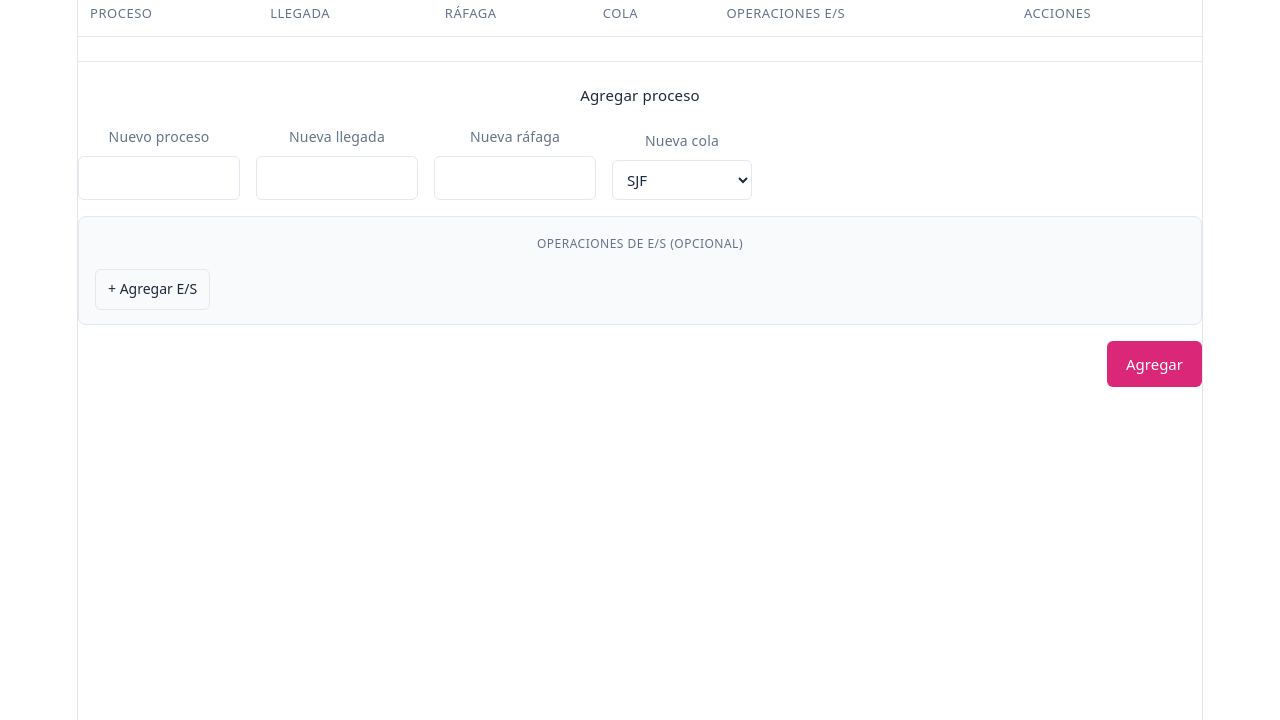
Test: ProcessTable › accepts arrivalTime = 0 and rejects negative with a validation error [4.4]
In the field labelled "Nuevo proceso": x=159, y=178 [78,156,240,200], type "P1"
In the field labelled "Nueva llegada": x=337, y=178 [256,156,418,200], type "0"
In the field labelled "Nueva ráfaga": x=515, y=178 [434,156,596,200], type "5"
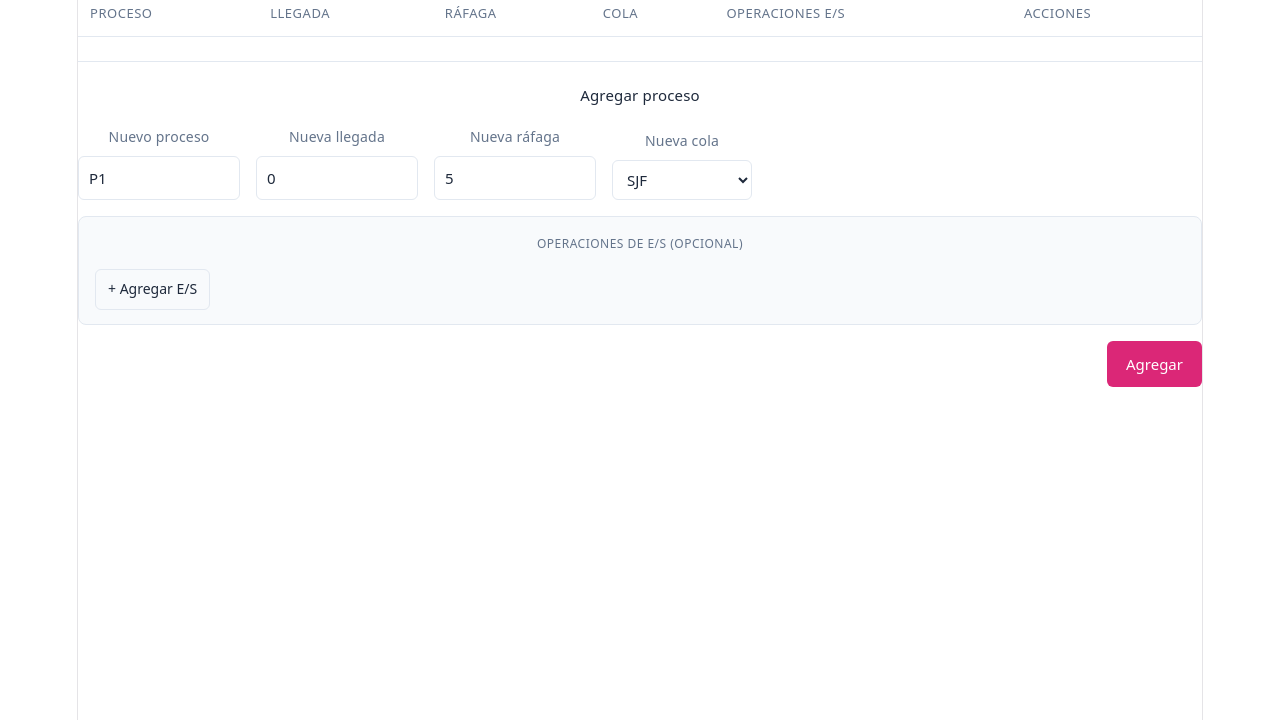
Click the button "Agregar": x=1154, y=364 [1107,341,1202,387]
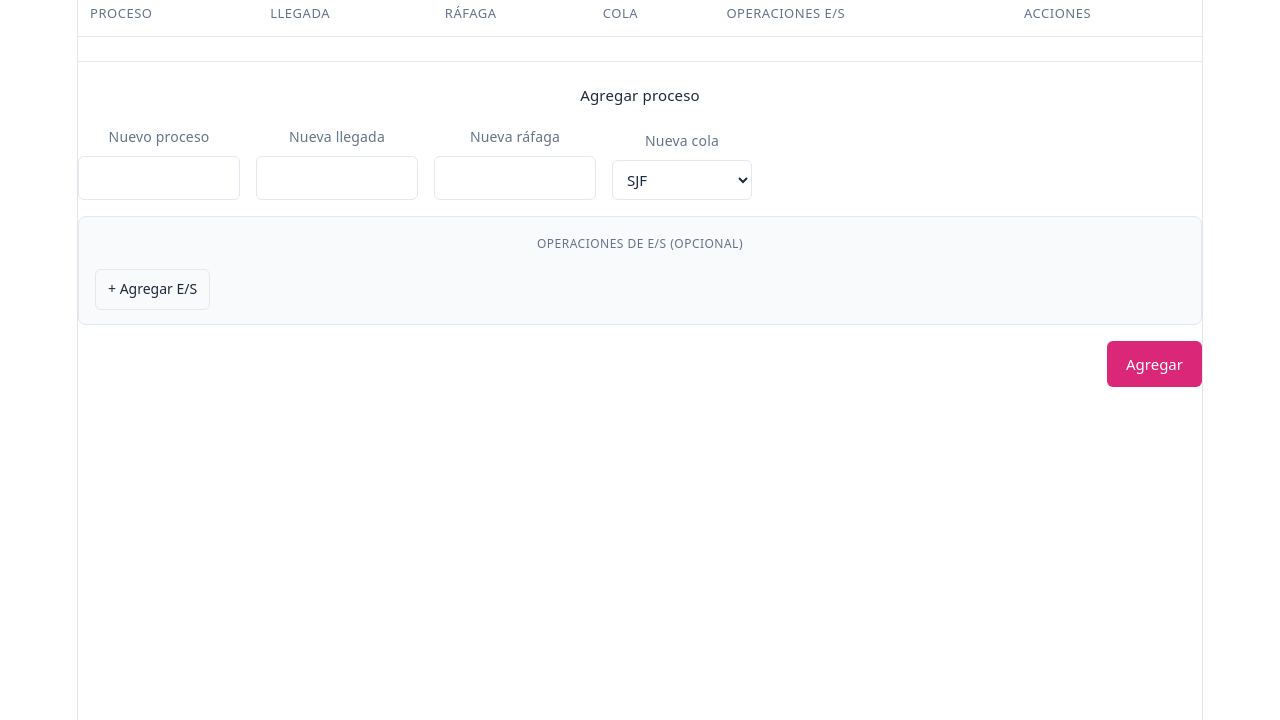
In the field labelled "Nuevo proceso": x=159, y=178 [78,156,240,200], type "P2"
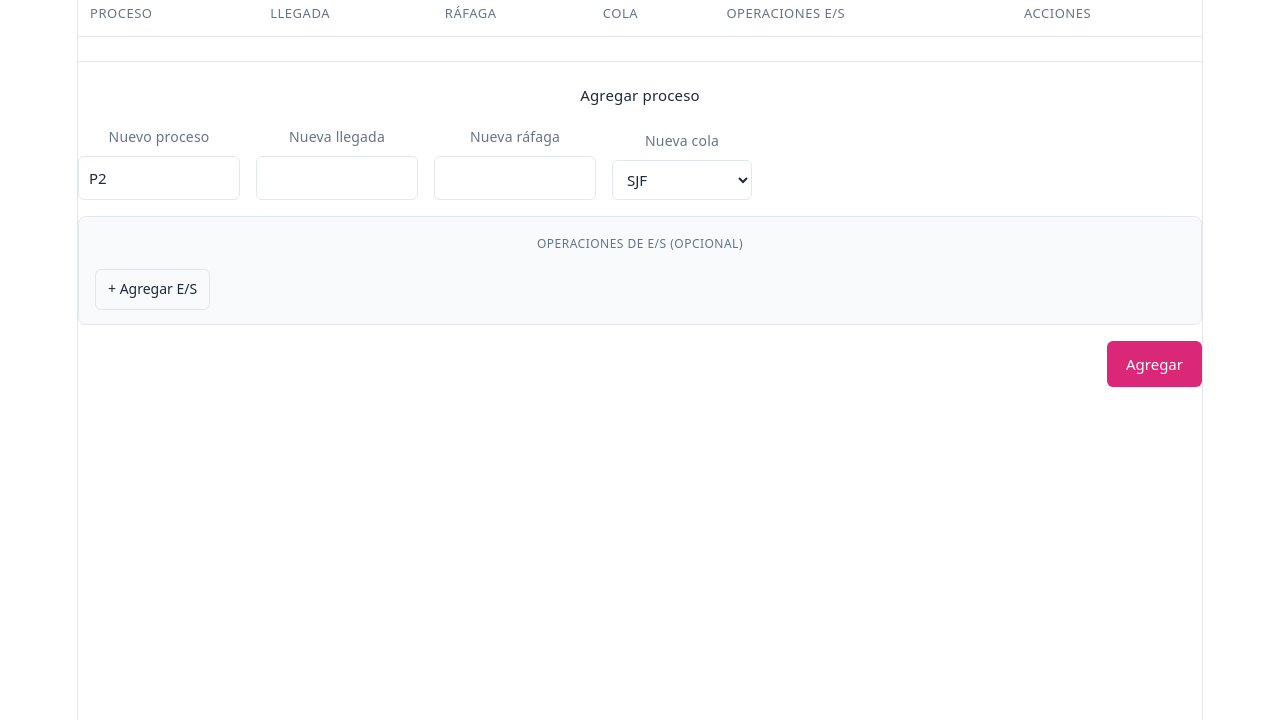
In the field labelled "Nueva llegada": x=337, y=178 [256,156,418,200], type "-3"
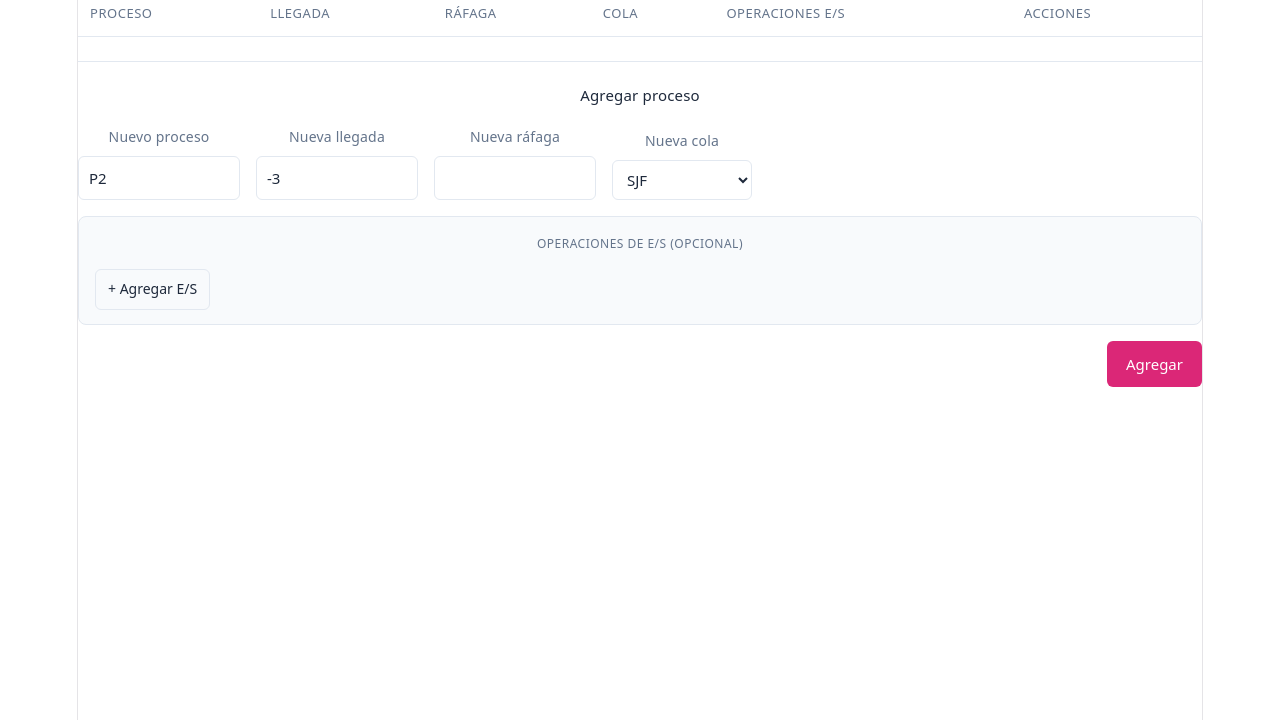
In the field labelled "Nueva ráfaga": x=515, y=178 [434,156,596,200], type "5"
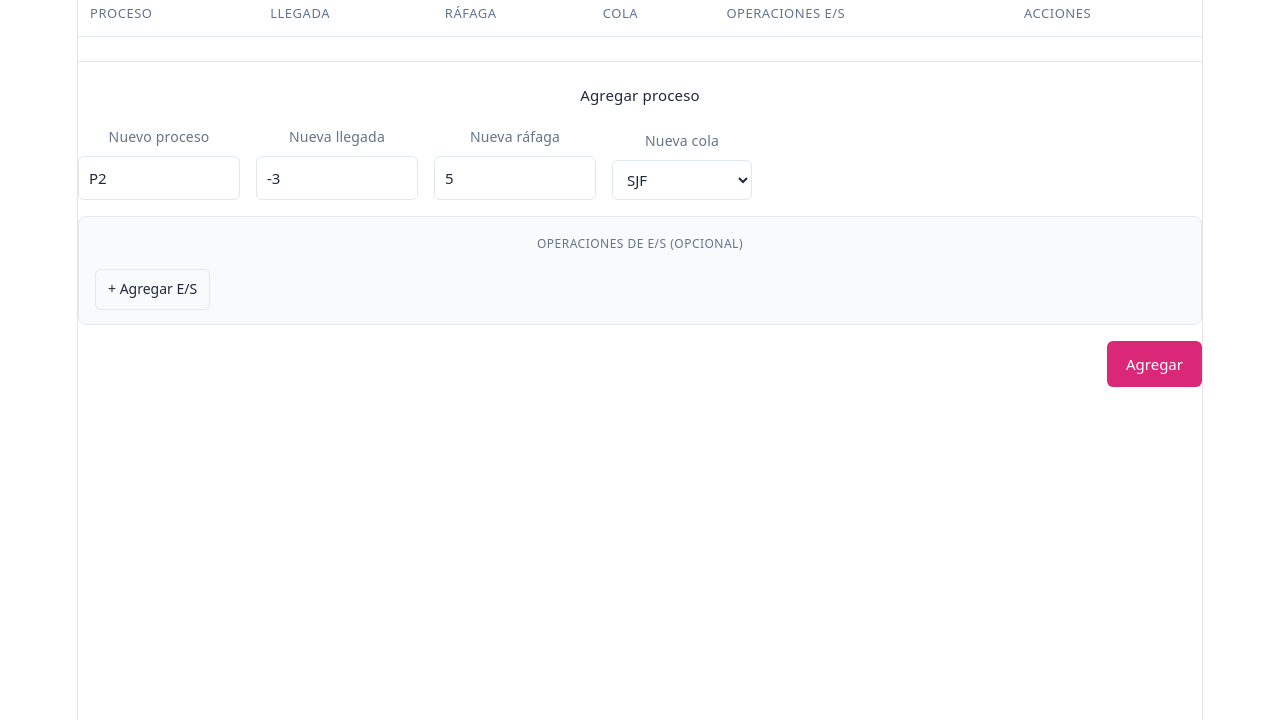
Click the button "Agregar": x=1154, y=364 [1107,341,1202,387]
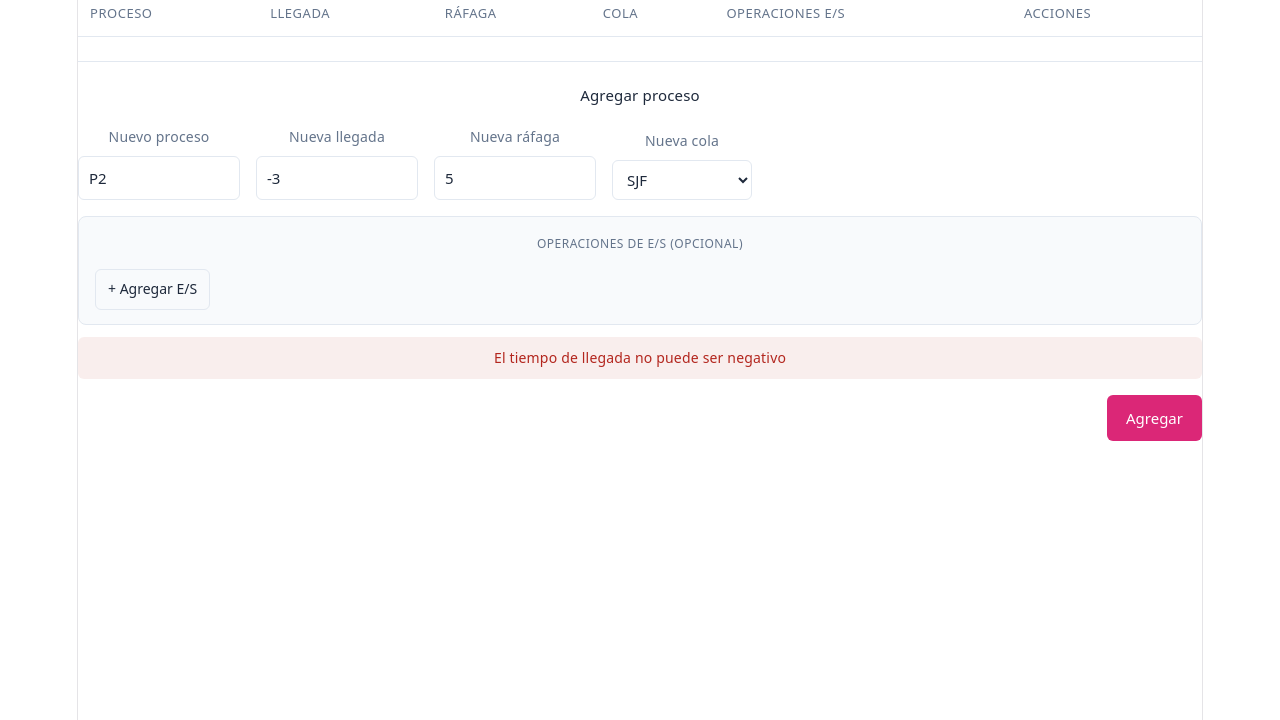
Now the message shows "llegada", box [494,348,786,367]
